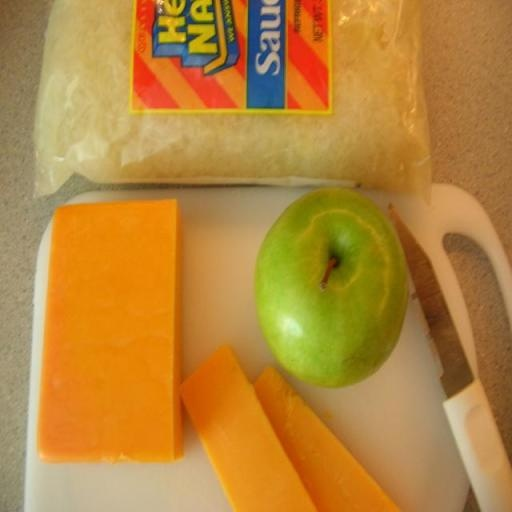fruit: (256, 188, 407, 386)
